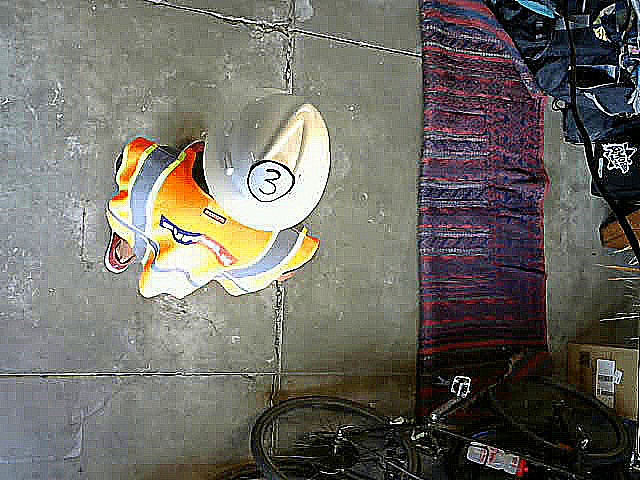three: (247, 160, 294, 203)
